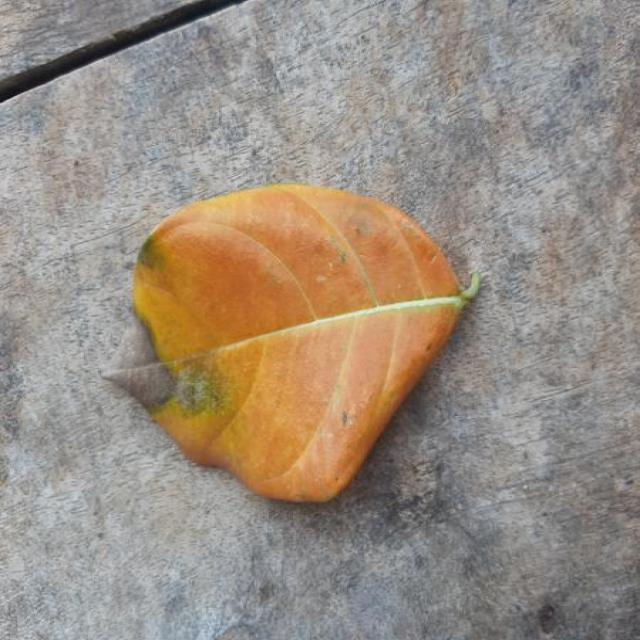Jackfruit: (103, 184, 480, 501)
dieback: (103, 184, 478, 501)
